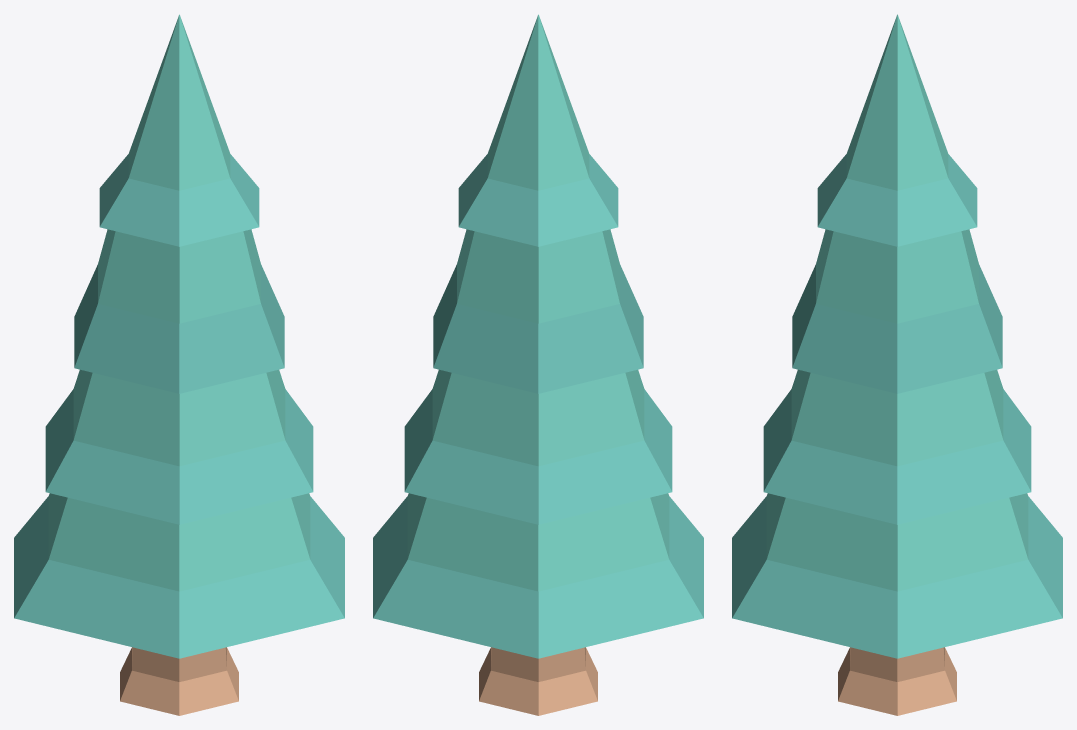
File: pine.glb
3 views of the same model, side by side, from view 1: azimuth 30°, elevation 25°; view 2: azimuth 150°, elevation 25°; view 3: azimuth 270°, elevation 25° (orthographic).
Visible parts, largest first — view 1: pine; view 2: pine; view 3: pine.
Boxes of the visible parts, x1,y1,x2,y2 form: pine: [14, 14, 344, 715]; pine: [373, 14, 703, 715]; pine: [732, 14, 1062, 715].
Size of the model in its own units: 1.18 by 2.29 by 1.02.
